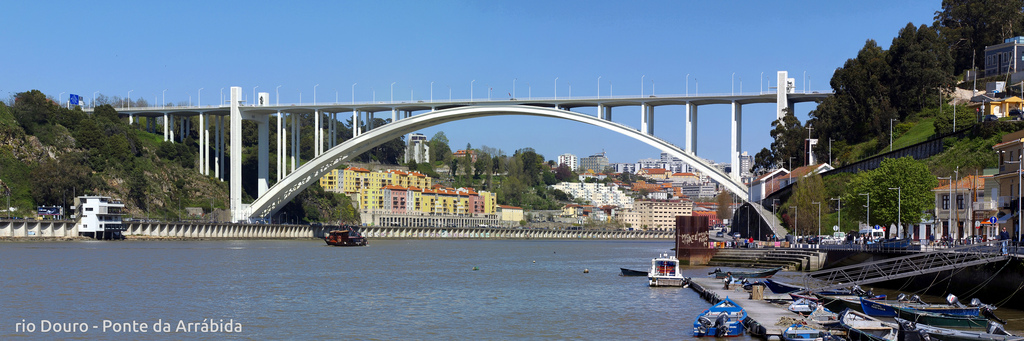arrabida: (74, 71, 838, 239)
